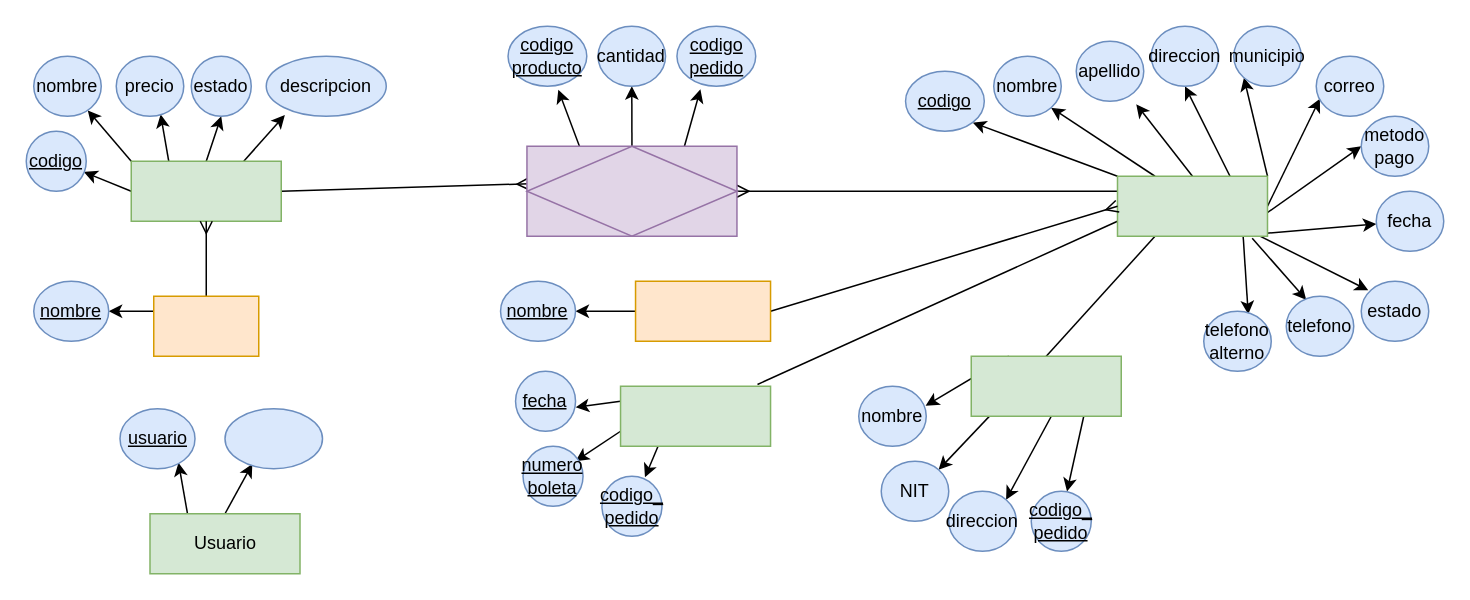
Some shapes in this 1470 by 600 pixel diagram are drawn without their labels. The box of each missing label's shape, as (x1, y1, x2, y2) in pixels:
Categoria: (152, 295, 259, 356)
Departamento: (634, 280, 771, 341)
Deposito: (619, 385, 771, 446)
Factura: (970, 355, 1121, 416)
password: (224, 407, 322, 469)
Pedido: (1116, 175, 1268, 236)
Producto: (130, 160, 281, 221)
producto pedido: (525, 145, 737, 236)
